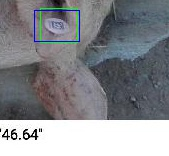text: (40, 8, 77, 42)
